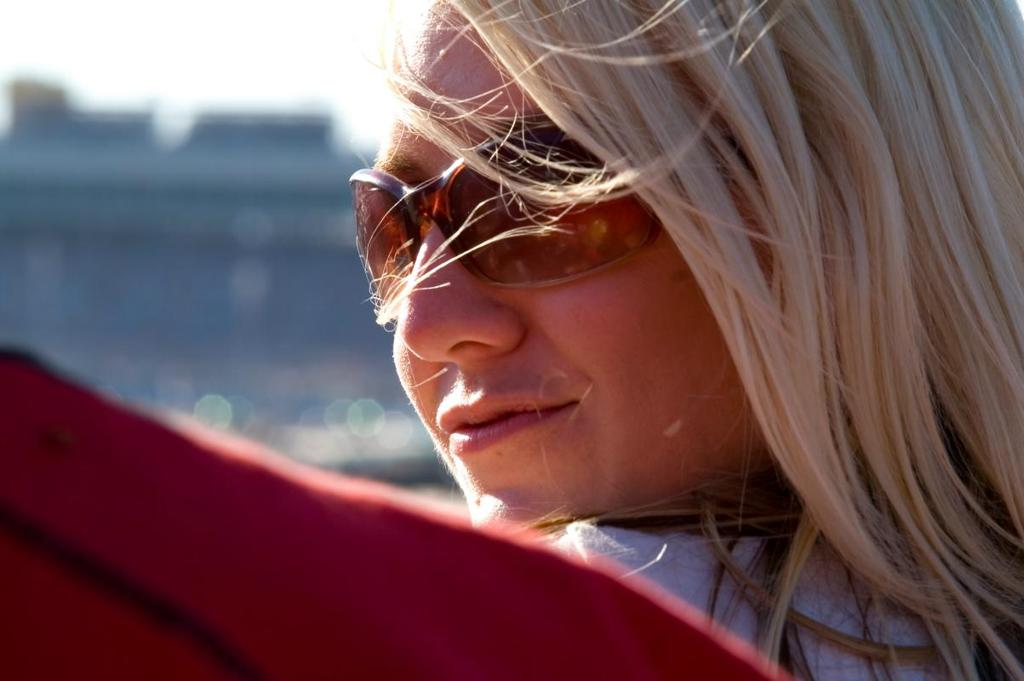face: (368, 6, 790, 530)
